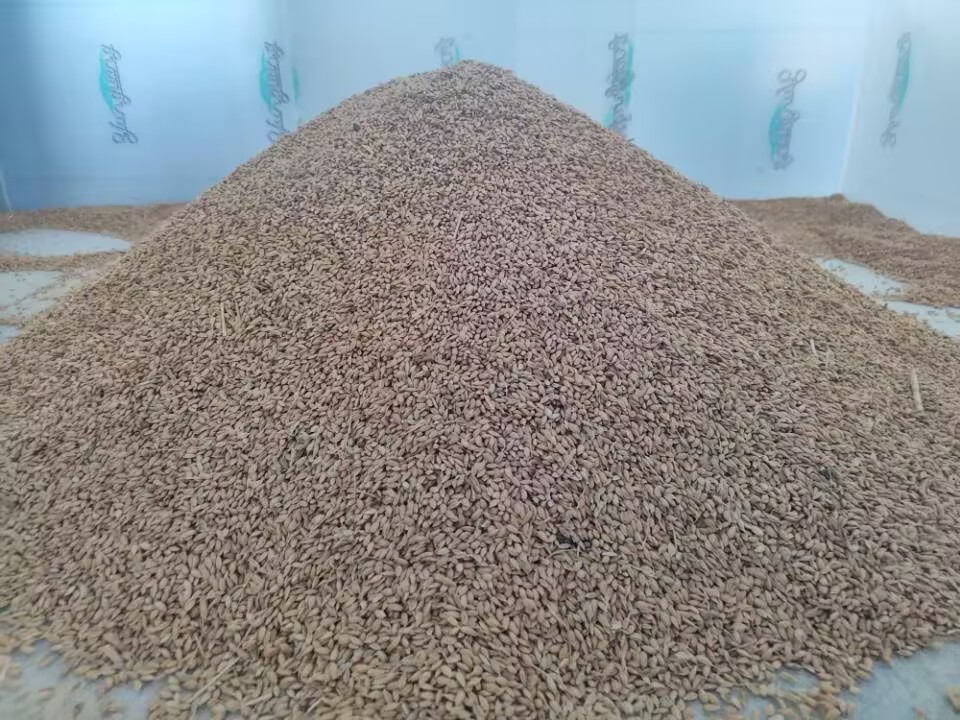Grain: (30, 51, 939, 666)
